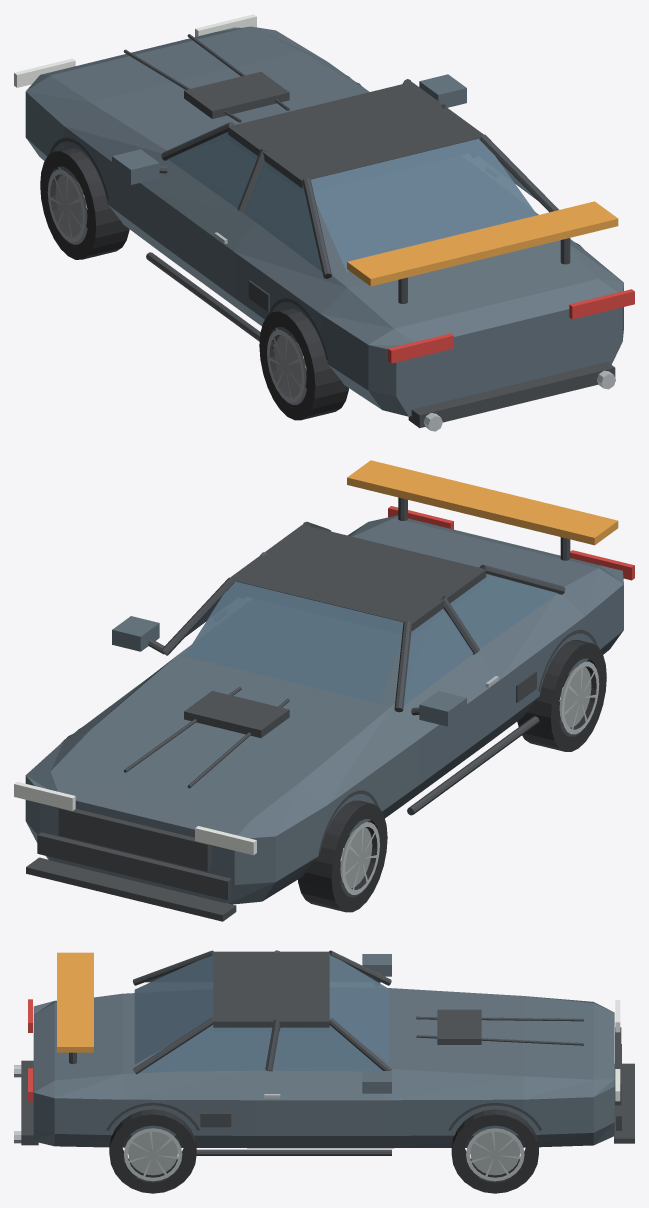
Rendered from kestrel_xr.gltf.
3 renders of one model, top to bottom at view 1: azimuth 30°, elevation 25°; view 2: azimuth 150°, elevation 25°; view 3: azimuth 270°, elevation 25°, orthographic. The views are drawn at different scales.
Parts seen in each view (by area): view 1: Body_Shell, Backlight, Roof_Frame, Aero_Wing, Tire_RL, Tire_FL, Quarter_Glass_L, Rear_Diffuser, Door_Glass_L, Hood_Vent, Side_Sill_L, Mirror_Cap_L (+12 smaller); view 2: Body_Shell, Windshield, Roof_Frame, Aero_Wing, Tire_FL, Tire_RL, Front_Grille, Lower_Intake, Quarter_Glass_L, Splitter, Door_Glass_L, Hood_Vent (+13 smaller); view 3: Body_Shell, Roof_Frame, Backlight, Windshield, Quarter_Glass_R, Aero_Wing, Door_Glass_R, Tire_RR, Tire_FR, Hood_Vent, Brake_FR, Brake_RR (+18 smaller).
Part boxes in pixels (bbox=[...]): Body_Shell: bbox=[25, 26, 623, 416]; Backlight: bbox=[311, 138, 536, 271]; Roof_Frame: bbox=[228, 82, 483, 188]; Aero_Wing: bbox=[347, 201, 618, 286]; Tire_RL: bbox=[259, 308, 348, 420]; Tire_FL: bbox=[40, 148, 129, 259]; Quarter_Glass_L: bbox=[243, 161, 322, 271]; Rear_Diffuser: bbox=[408, 362, 615, 428]; Door_Glass_L: bbox=[168, 132, 257, 208]; Hood_Vent: bbox=[184, 72, 289, 118]; Side_Sill_L: bbox=[146, 252, 275, 352]; Mirror_Cap_L: bbox=[112, 149, 159, 184]; Body_Shell: bbox=[25, 515, 623, 904]; Windshield: bbox=[185, 581, 403, 703]; Roof_Frame: bbox=[230, 524, 486, 631]; Aero_Wing: bbox=[347, 460, 618, 545]; Tire_FL: bbox=[298, 800, 387, 912]; Tire_RL: bbox=[517, 640, 606, 751]; Front_Grille: bbox=[58, 808, 211, 871]; Lower_Intake: bbox=[37, 832, 231, 899]; Quarter_Glass_L: bbox=[450, 574, 557, 648]; Splitter: bbox=[26, 857, 236, 921]; Door_Glass_L: bbox=[403, 608, 473, 705]; Hood_Vent: bbox=[184, 691, 289, 737]; Body_Shell: bbox=[33, 988, 614, 1148]; Roof_Frame: bbox=[213, 951, 329, 1031]; Backlight: bbox=[134, 954, 213, 1064]; Windshield: bbox=[329, 954, 389, 1062]; Quarter_Glass_R: bbox=[141, 1025, 272, 1071]; Aero_Wing: bbox=[57, 952, 93, 1052]; Door_Glass_R: bbox=[272, 1025, 382, 1071]; Tire_RR: bbox=[109, 1109, 196, 1193]; Tire_FR: bbox=[451, 1109, 538, 1193]; Hood_Vent: bbox=[437, 1009, 481, 1044]; Brake_FR: bbox=[470, 1131, 519, 1175]; Brake_RR: bbox=[128, 1131, 177, 1175].
Bounding box in the file's own units: 2.46 × 1.38 × 5.05.
